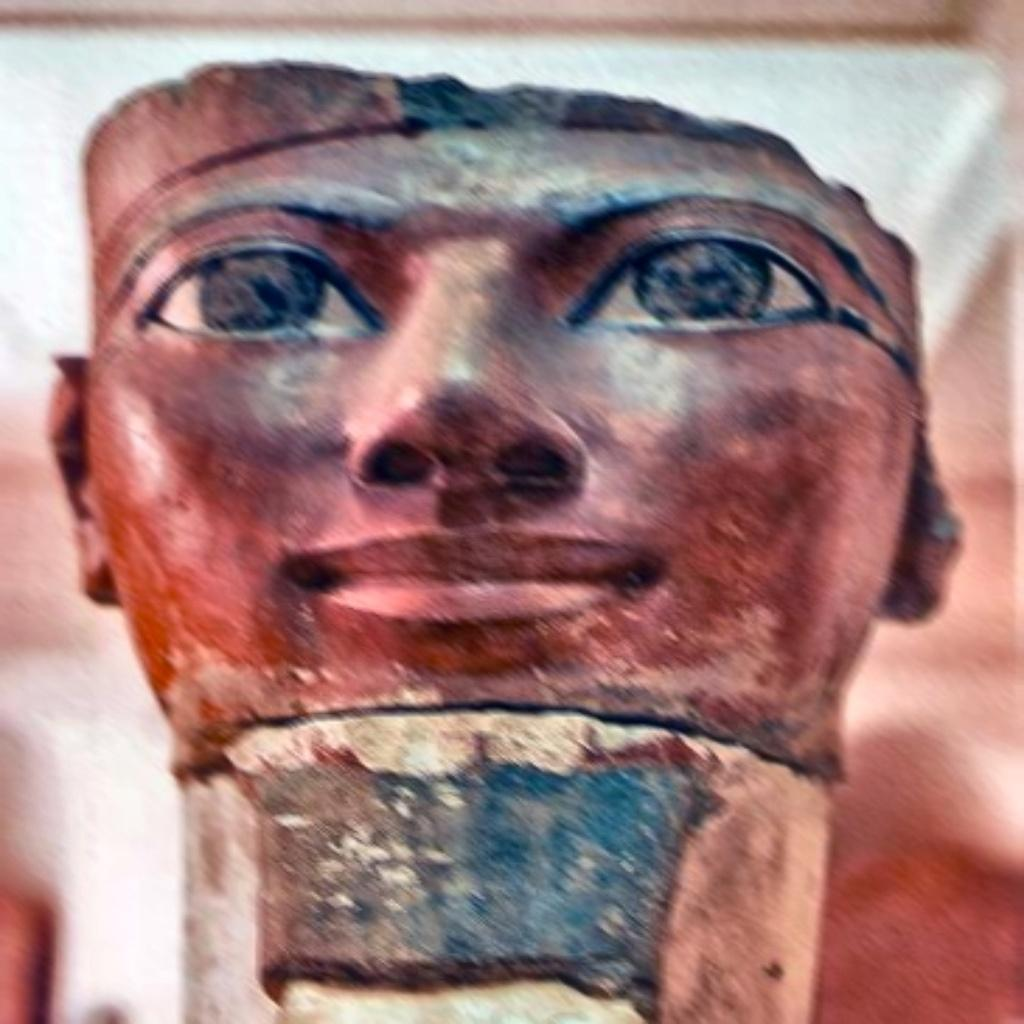Hatshepsut face: (48, 55, 962, 1024)
